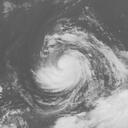cyclone: (31, 27, 99, 94)
